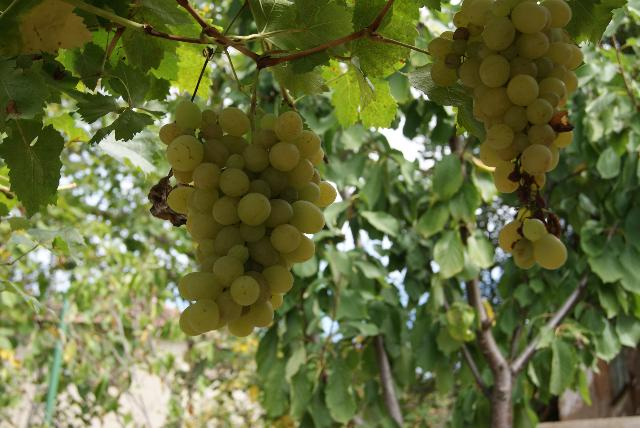grapes: (159, 101, 336, 338), (429, 0, 584, 269)
